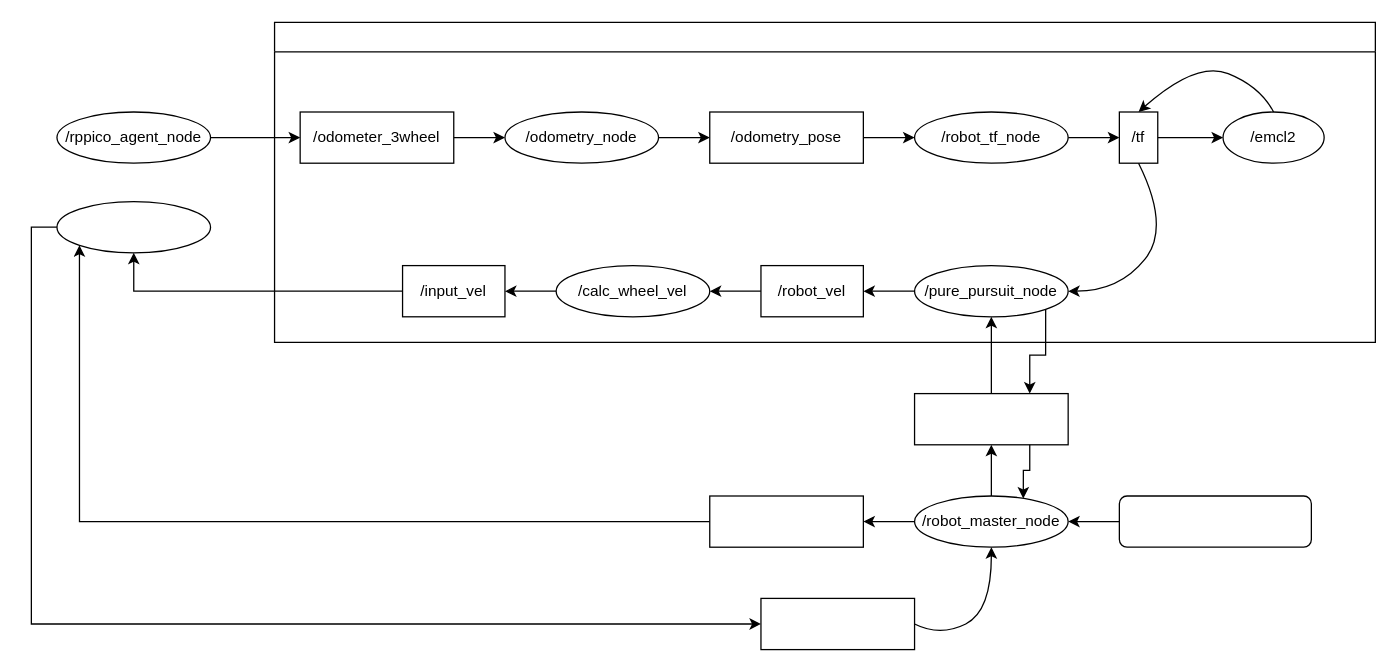
This 1398x672 diagram has some shape labels left out. The box of each missing label's shape, as (x1, y1, x2, y2) in pixels:
/mecha_state: (708, 495, 863, 547)
/nucleo_agent_node: (56, 200, 211, 253)
/path_and_feedback: (913, 392, 1068, 445)
/switchs_states: (760, 597, 915, 650)
chassis: (273, 21, 1375, 342)
robot_movements.yaml: (1118, 495, 1311, 547)
